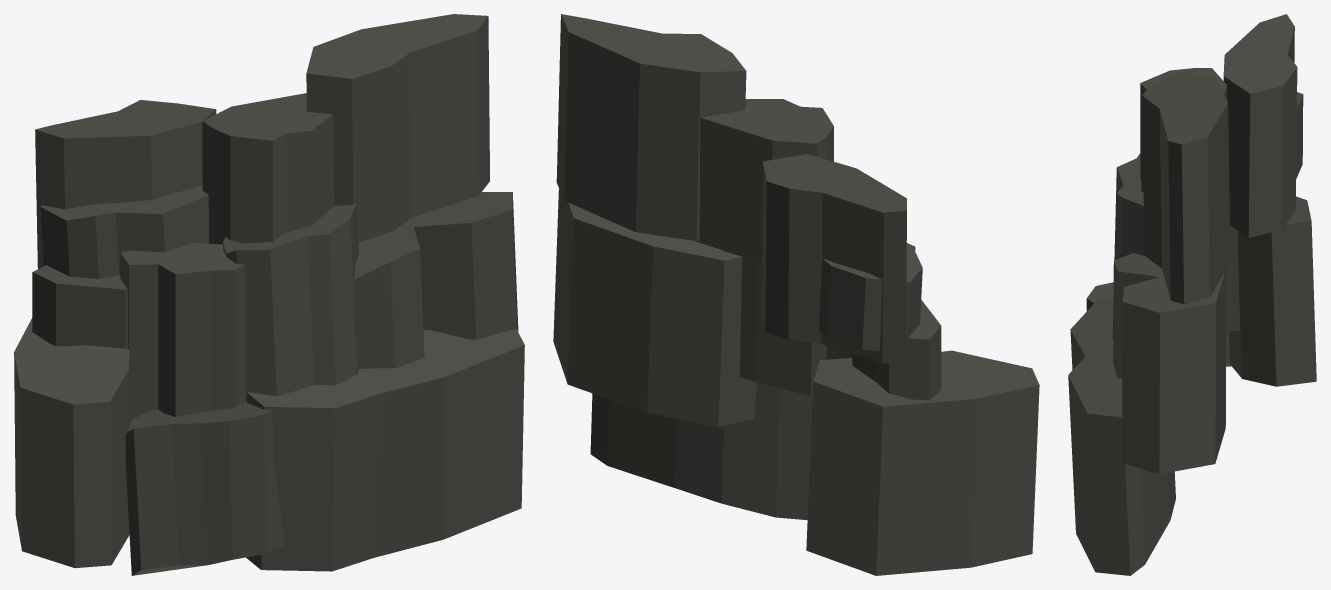
The model's file is cliffback.fbx.
3 renders of one model, left to right at view 1: azimuth 30°, elevation 25°; view 2: azimuth 150°, elevation 25°; view 3: azimuth 270°, elevation 25°, orthographic. The views are drawn at different scales.
Visible parts, largest first — view 1: upper cliff; view 2: upper cliff; view 3: upper cliff.
Part boxes in pixels (x1,y1,x2,y2): upper cliff: (14, 14, 524, 575); upper cliff: (553, 14, 1039, 575); upper cliff: (1068, 14, 1316, 575).
Bounding box in the file's own units: 2472 × 2258 × 1142.
